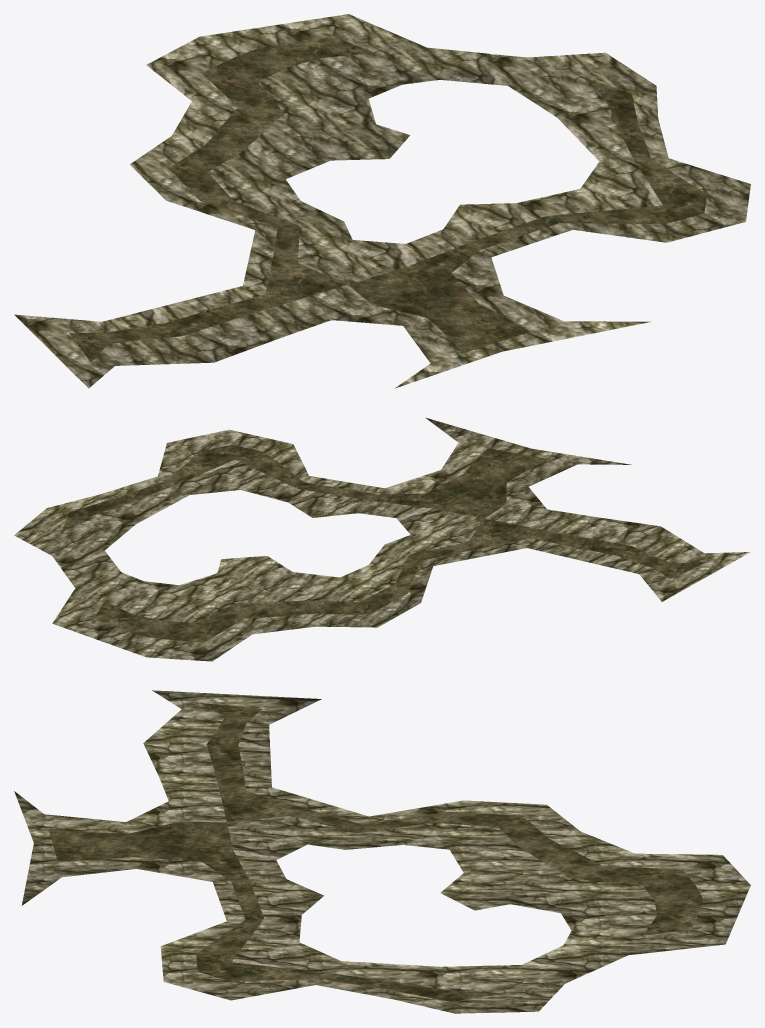
Rendered from CB_NEWPLAYSURFACE_CB_PLAYSURFACE17.fbx.
The picture shows the model from 3 angles, top to bottom: view 1: azimuth 30°, elevation 25°; view 2: azimuth 150°, elevation 25°; view 3: azimuth 270°, elevation 25°; orthographic projection. The views are drawn at different scales.
Visible parts, largest first — view 1: CB_NEWPLAYSURFACE_CB_PLAYSURFACE17; view 2: CB_NEWPLAYSURFACE_CB_PLAYSURFACE17; view 3: CB_NEWPLAYSURFACE_CB_PLAYSURFACE17.
Part boxes in pixels (<box>): CB_NEWPLAYSURFACE_CB_PLAYSURFACE17: <box>14,14,750,388</box>; CB_NEWPLAYSURFACE_CB_PLAYSURFACE17: <box>14,417,750,661</box>; CB_NEWPLAYSURFACE_CB_PLAYSURFACE17: <box>14,690,750,1013</box>.
Bounding box in the file's own units: 455910 × 124 × 439275.
2 materials, 2 textured.
